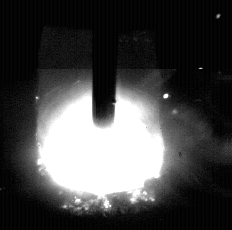arame: (92, 0, 117, 128)
poca: (36, 0, 165, 230)
